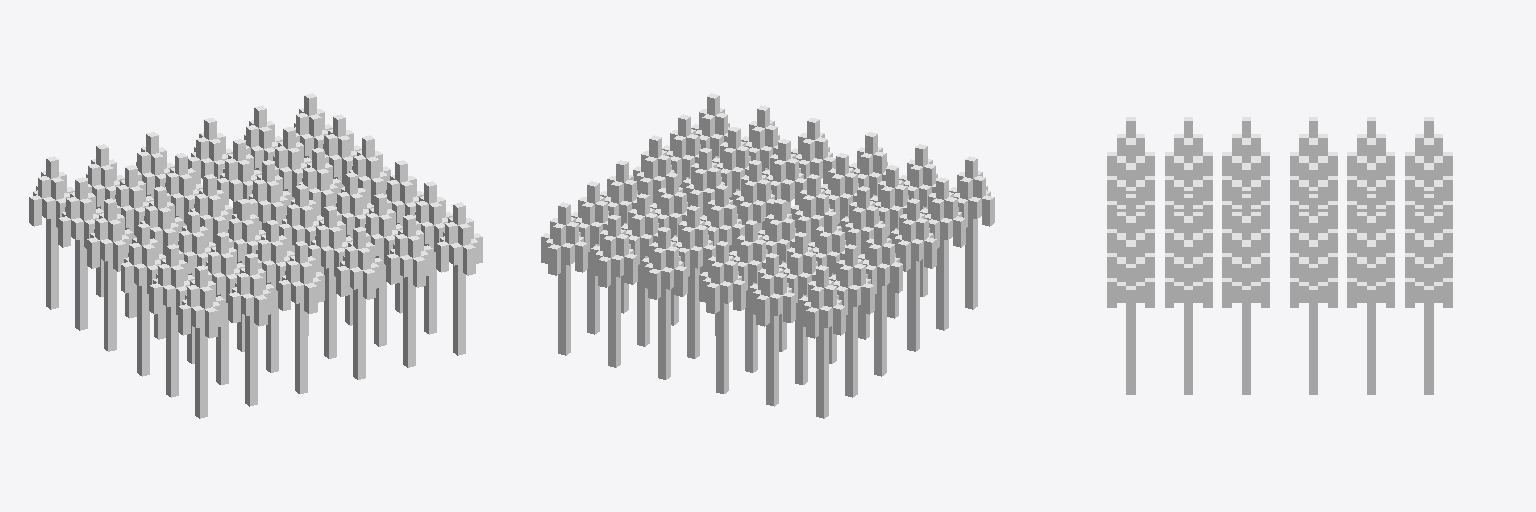
File: Barbs-0.obj
3 renders of one model, left to right at view 1: azimuth 30°, elevation 25°; view 2: azimuth 150°, elevation 25°; view 3: azimuth 270°, elevation 25°, orthographic.
Visible parts, largest first — view 1: object 1; view 2: object 1; view 3: object 1.
Boxes of the visible parts, box(x1,y1,x2,y2) form: object 1: box(29, 93, 482, 418); object 1: box(541, 93, 994, 418); object 1: box(1107, 117, 1452, 394).
Size of the model in its own units: 3.6 by 1.7 by 3.6.